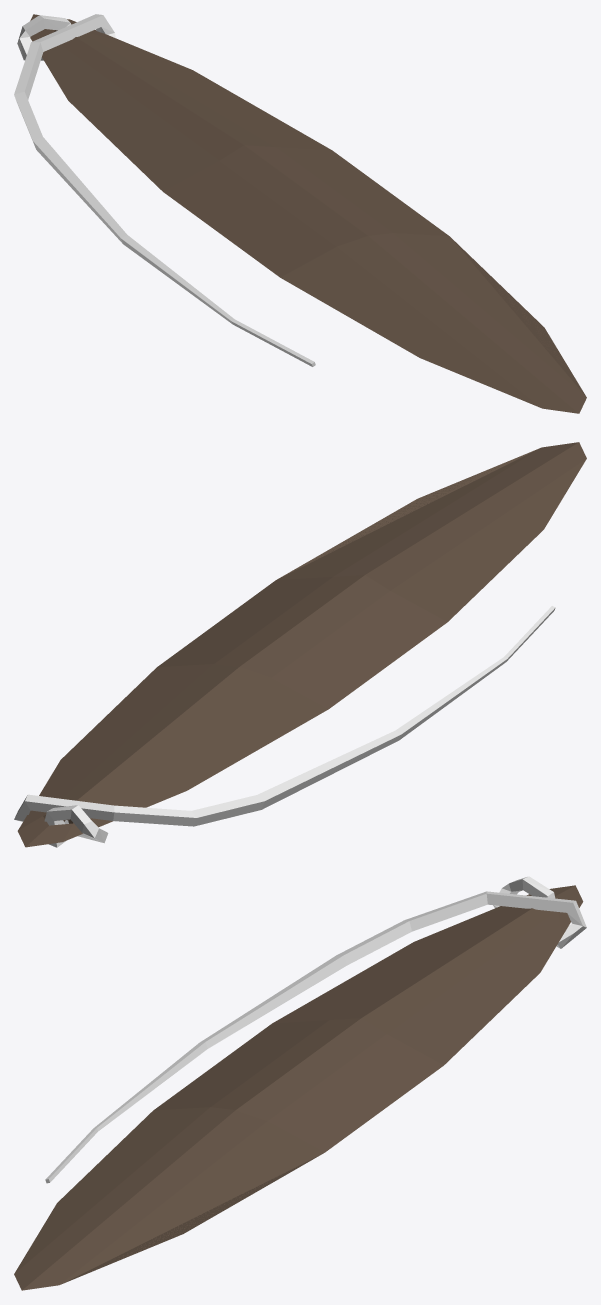
File: bullroarer.glb
3 renders of one model, top to bottom at view 1: azimuth 30°, elevation 25°; view 2: azimuth 150°, elevation 25°; view 3: azimuth 330°, elevation 25°, orthographic.
Visible parts, largest first — view 1: Bullroarer; view 2: Bullroarer; view 3: Bullroarer.
Boxes of the visible parts, <box> form: Bullroarer: <box>14,14,586,413</box>; Bullroarer: <box>14,442,586,847</box>; Bullroarer: <box>14,876,586,1290</box>.
Size of the model in its own units: 0.3264 by 0.0747 by 1.36.
